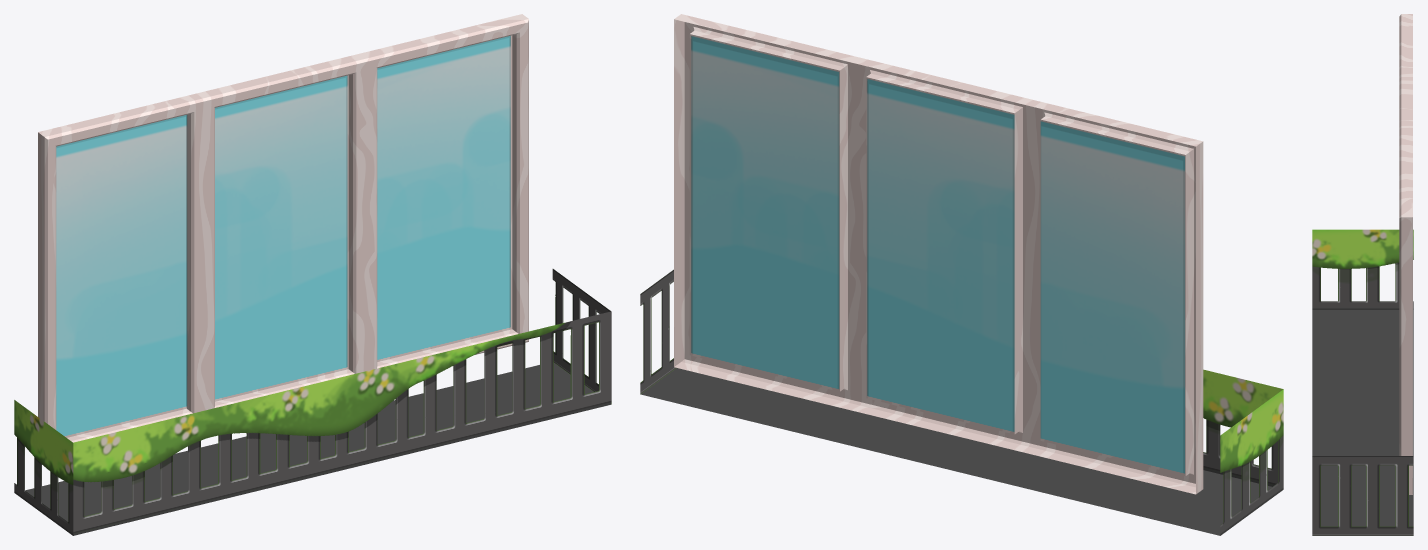
File: window_2.FBX
3 views of the same model, side by side, from view 1: azimuth 30°, elevation 25°; view 2: azimuth 150°, elevation 25°; view 3: azimuth 270°, elevation 25° (orthographic). The views are drawn at different scales.
Parts seen in each view (by area): view 1: window, balkon; view 2: window, balkon; view 3: balkon, window.
Boxes of the visible parts, x1,y1,x2,y2 form: window: [38, 14, 528, 442]; balkon: [14, 269, 611, 535]; window: [674, 14, 1203, 494]; balkon: [640, 269, 1283, 535]; balkon: [1312, 229, 1413, 535]; window: [1399, 14, 1412, 494].
Size of the model in its own units: 33.03 by 20.84 by 6.24.
